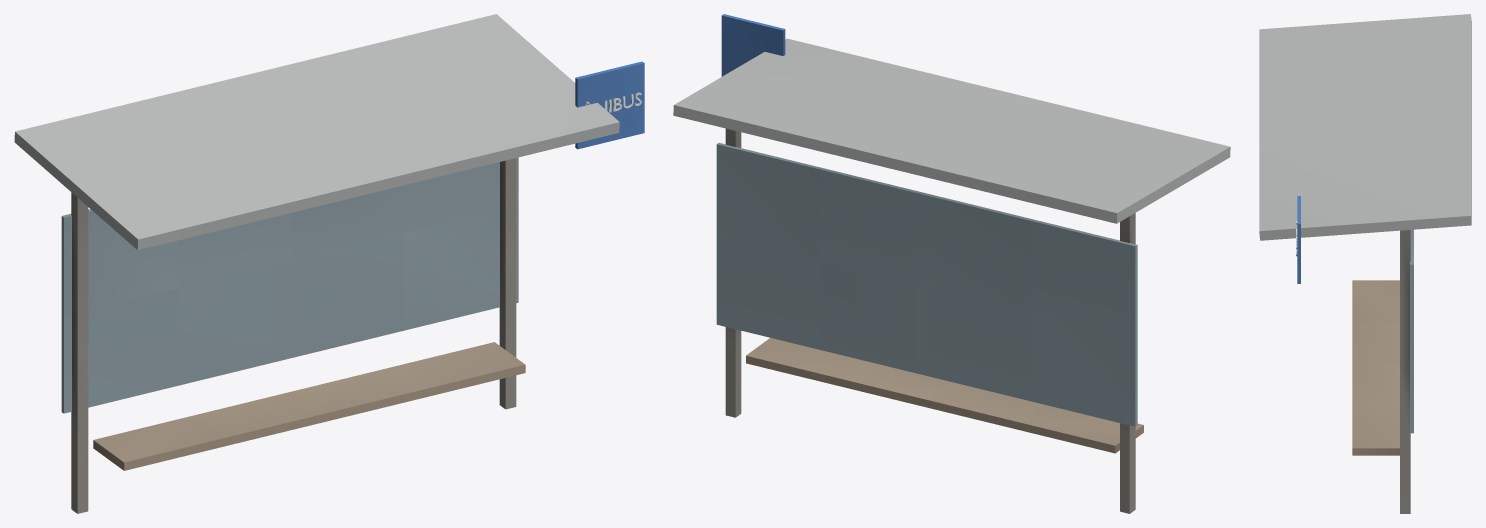
Rendered from ponto_onibus.glb.
The picture shows the model from 3 angles, left to right: view 1: azimuth 30°, elevation 25°; view 2: azimuth 150°, elevation 25°; view 3: azimuth 270°, elevation 25°; orthographic projection. The views are drawn at different scales.
Parts seen in each view (by area): view 1: teto, fundo, banco, pilares, placa; view 2: fundo, teto, banco, pilares, placa; view 3: teto, banco, pilares, fundo, placa.
Boxes of the visible parts, <box> form: teto: <box>14,14,619,250</box>; fundo: <box>61,157,518,413</box>; banco: <box>93,342,525,470</box>; pilares: <box>71,158,516,513</box>; placa: <box>575,61,644,149</box>; fundo: <box>716,143,1137,426</box>; teto: <box>673,38,1230,223</box>; banco: <box>746,338,1143,453</box>; pilares: <box>725,128,1135,513</box>; placa: <box>721,14,785,76</box>; teto: <box>1259,14,1471,240</box>; banco: <box>1352,280,1399,455</box>; pilares: <box>1400,230,1410,513</box>; fundo: <box>1410,229,1413,433</box>; placa: <box>1297,196,1300,283</box>.
Size of what is drawn, in the model's own units: 3.95 by 2.65 by 1.6.
